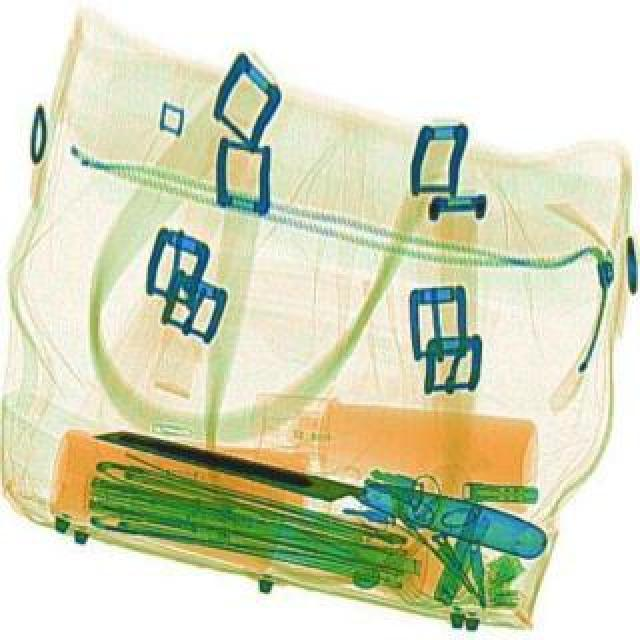knife: (86, 404, 550, 556)
